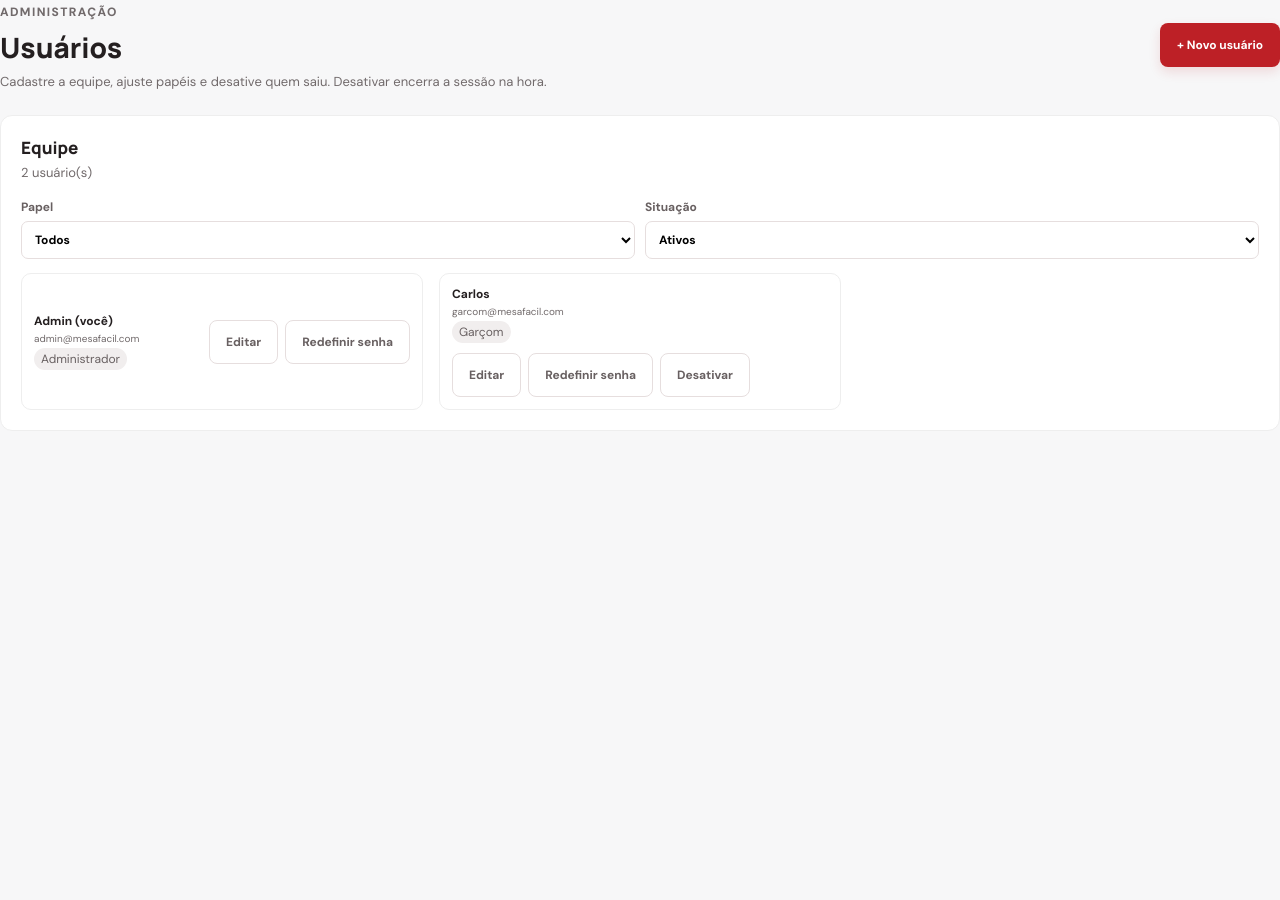
Test: Telas de Autenticação, Conta e Usuários (RN-16) › Users bloqueia edição do próprio papel e oculta botão Desativar para si mesmo
Expected: the text "Admin (você)" is shown, [34,313,113,329]
Expected: the number of buttons "Desativar" is 1, [660,353,750,397]
Click the button "Editar" next to "admin@mesafacil.com".
click(244, 342)  # box [209,320,278,364]
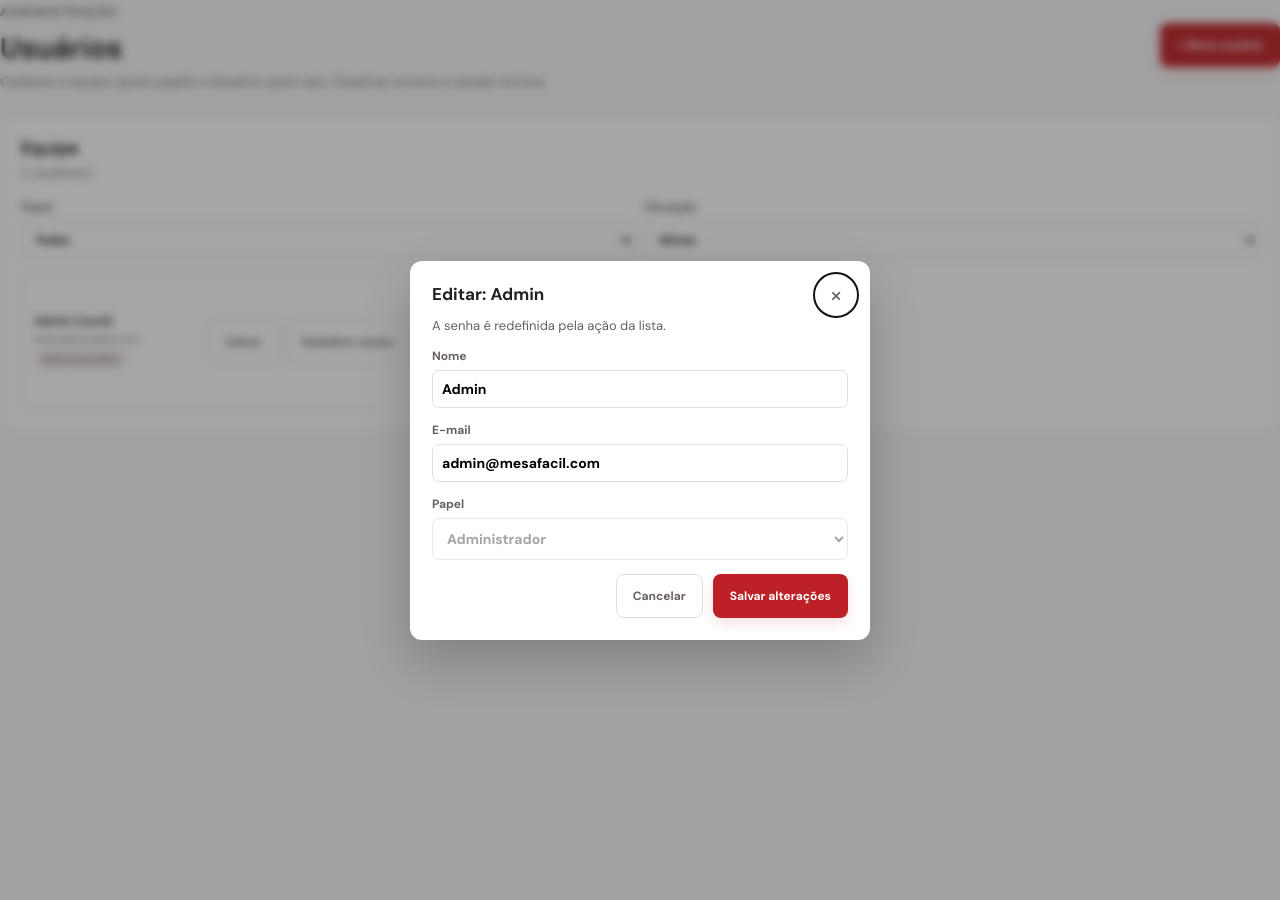
Expected: the dropdown labelled "Papel" is disabled, [432,518,848,560]
